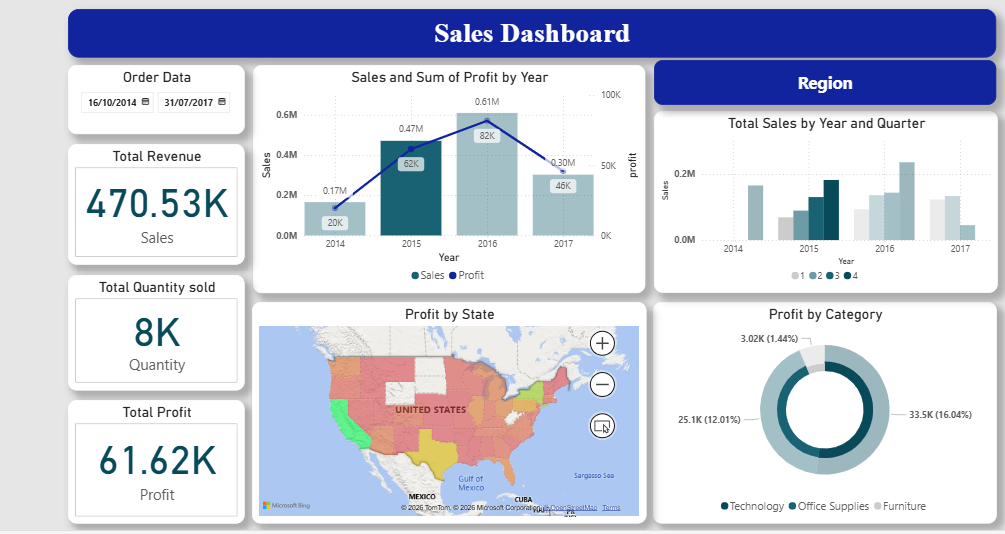

What the dashboard file says about the page in this screenshot:
{"tool":"powerbi","page":{"name":"Sales","canvas":[1280,720],"ordinal":0},"visuals":[{"type":"textbox","box":[7.3,11.7,1261.5,65.9],"z":0},{"type":"lineClusteredColumnComboChart","title":"Sales and Sum of Profit by Year","fields":{"Category":["Orders.Year"],"Y":["Sum(Orders.Sales)"],"Y2":["Sum(Orders.Profit)"]},"box":[257.6,87.8,532.7,310.2],"z":1000},{"type":"donutChart","title":"Profit by Category","fields":{"Category":["Orders.Category"],"Y":["Sum(Orders.Profit)"]},"box":[802,409.8,466.8,301.5],"z":2000},{"type":"slicer","title":"Order Data","fields":{"Values":["Orders.Order Date"]},"box":[7.3,87.8,240,93.7],"z":3000},{"type":"cardVisual","title":"Total Revenue","fields":{"Data":["Sum(Orders.Sales)"]},"box":[7.3,196.1,240,163.9],"z":4000},{"type":"cardVisual","title":"Total Quantity sold","fields":{"Data":["Sum(Orders.Quantity)"]},"box":[7.3,373.2,240,156.6],"z":5000},{"type":"cardVisual","title":"Total Profit","fields":{"Data":["Sum(Orders.Profit)"]},"box":[7.3,542.9,240,168.3],"z":6000},{"type":"clusteredColumnChart","title":"Total Sales by Year and Quarter","fields":{"Category":["Orders.Year"],"Y":["Sum(Orders.Sales)"],"Series":["Orders.Quarter"]},"box":[803.4,150.7,466.8,247.3],"z":7000},{"type":"filledMap","fields":{"Category":["Orders.State"]},"box":[256.1,409.8,535.6,301.5],"z":8000},{"type":"actionButton","box":[803.4,82,465.4,61.5],"z":9000}]}

Visuals, with their boxes in screenshot pixels (x1, y1, x2, y2):
textbox: Rect(68, 6, 991, 54)
"Sales and Sum of Profit by Year" lineClusteredColumnComboChart: Rect(251, 62, 641, 288)
"Profit by Category" donutChart: Rect(649, 297, 991, 518)
"Order Data" slicer: Rect(68, 62, 244, 130)
"Total Revenue" cardVisual: Rect(68, 141, 244, 261)
"Total Quantity sold" cardVisual: Rect(68, 270, 244, 385)
"Total Profit" cardVisual: Rect(68, 394, 244, 517)
"Total Sales by Year and Quarter" clusteredColumnChart: Rect(650, 108, 992, 288)
filledMap - Orders.State: Rect(250, 297, 642, 518)
actionButton: Rect(650, 57, 991, 102)
